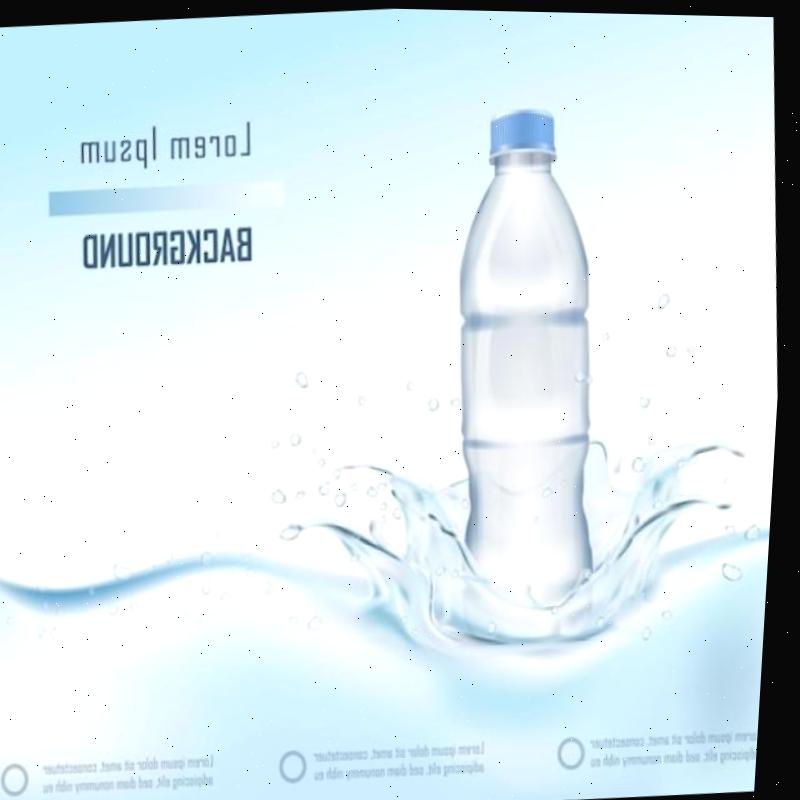botella: (430, 99, 623, 609)
